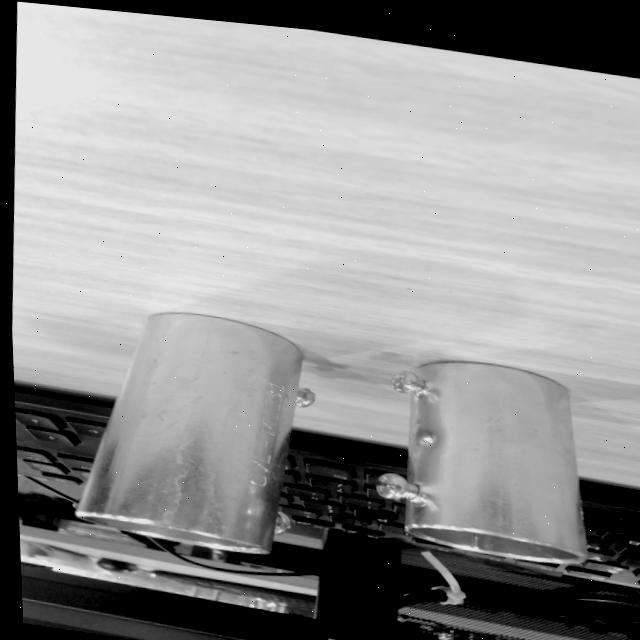Co_Lon: (74, 297, 311, 558)
Co_Nho: (368, 350, 612, 568)
